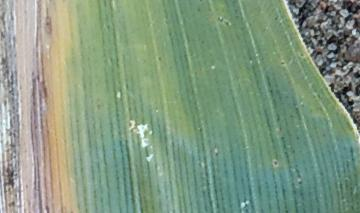tarspot: (216, 15, 232, 28), (297, 50, 306, 59), (272, 14, 280, 22), (156, 53, 163, 62), (272, 159, 279, 166), (279, 59, 285, 66), (213, 151, 220, 157)
